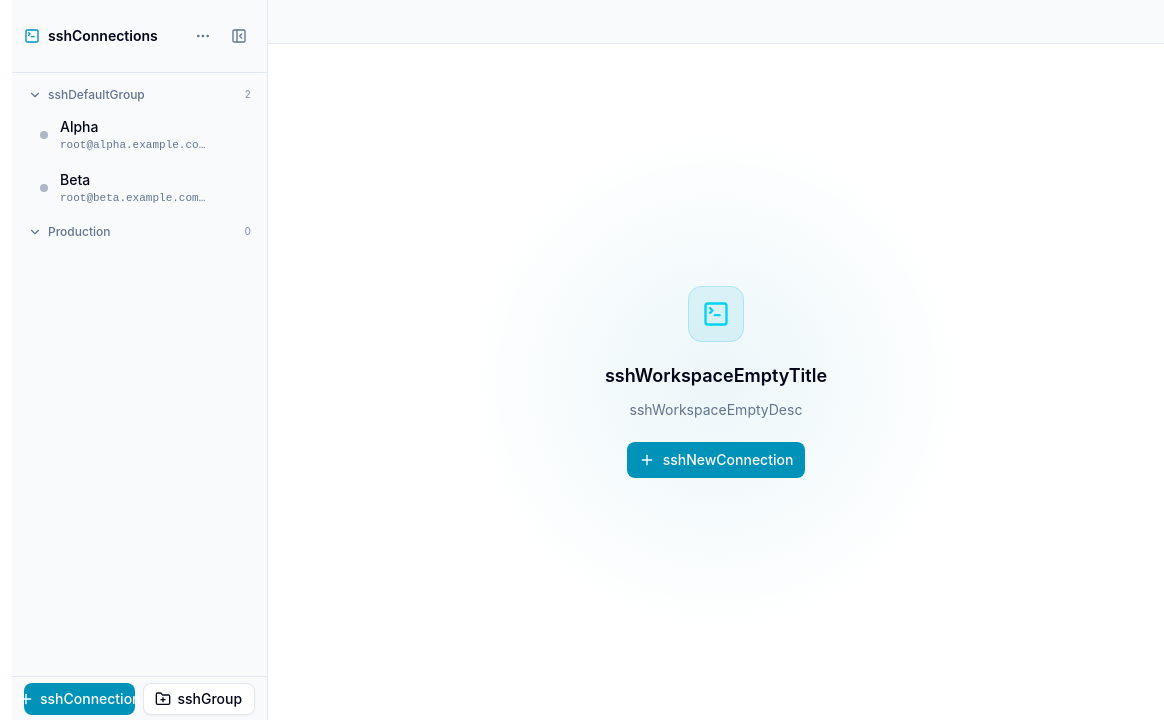
Test case: SSH workspace › renames a custom SSH group from the group context menu
Right-click the button with aria-label "sshToggleGroup Production" at (140, 232), box [20,218,259,246]
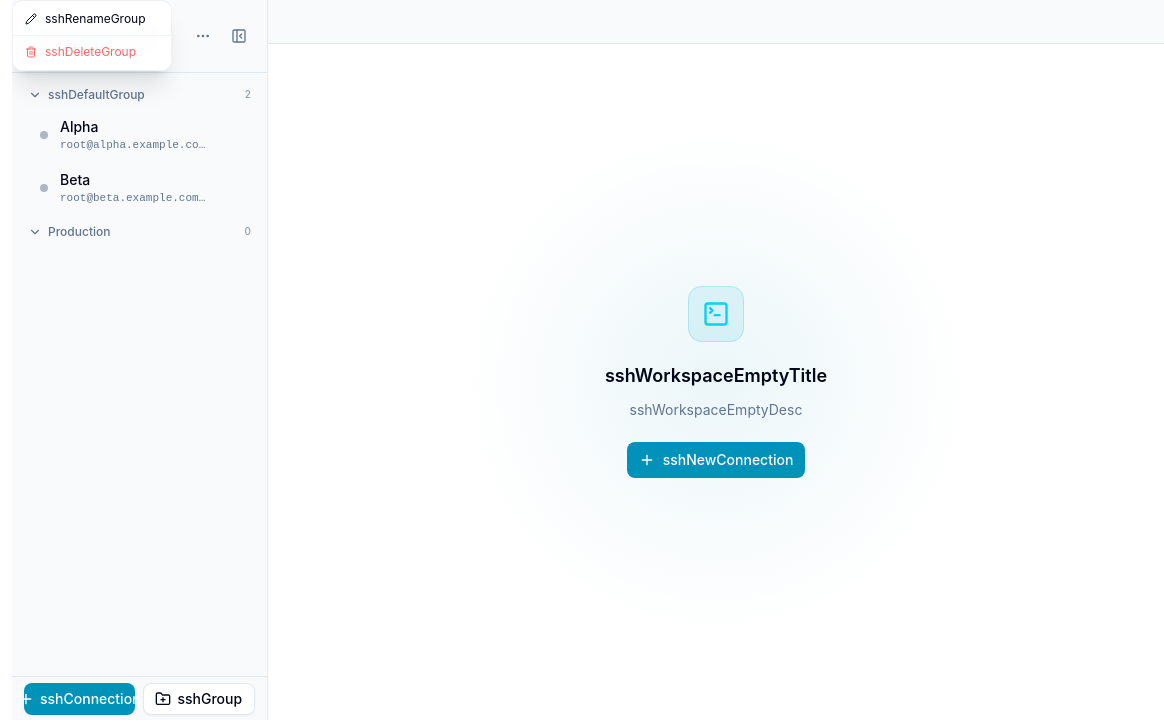
Click the button "sshRenameGroup" at (92, 19), box [13,5,171,33]
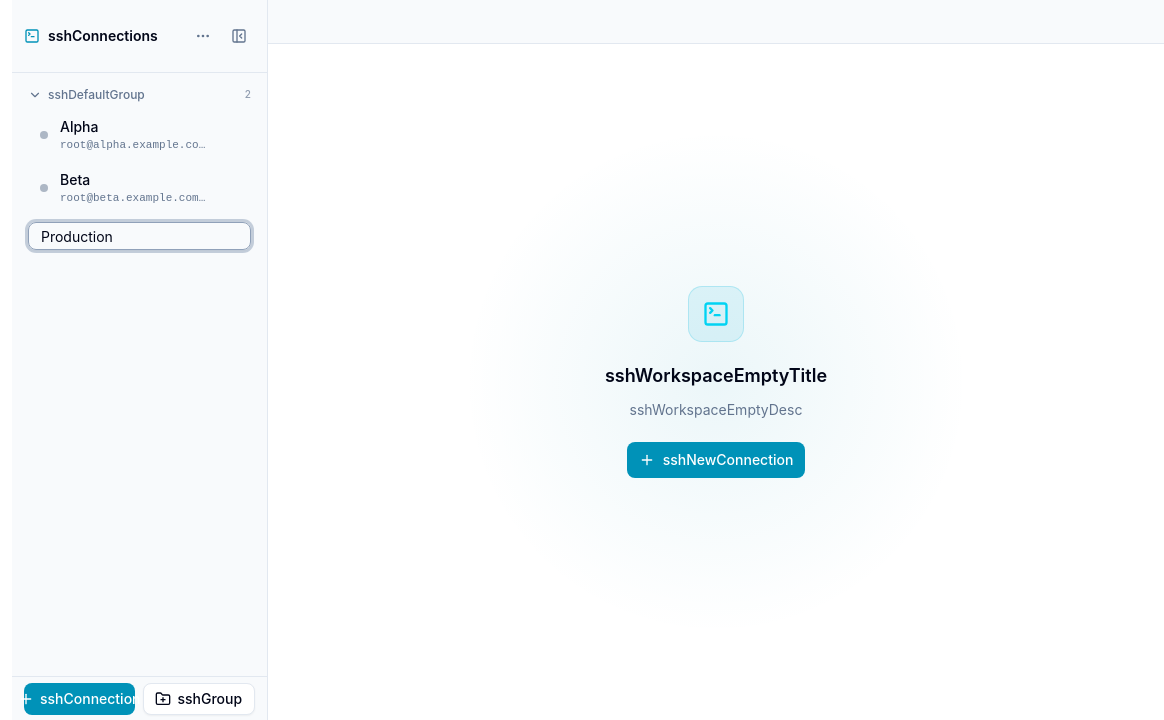
Replace the text in the field named "sshRenameGroup" with "Servers" at (140, 236), box [28,222,251,250]
Then press Enter
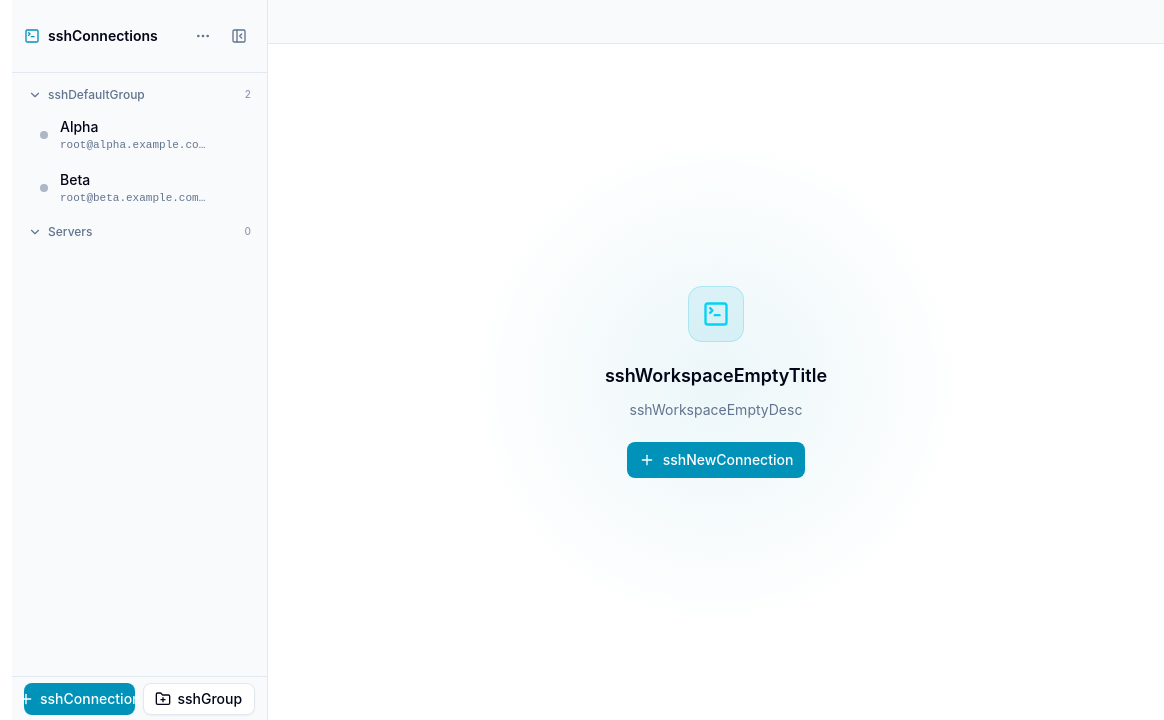
Expected: the button with aria-label "sshToggleGroup Servers" is shown, [20,218,259,246]
